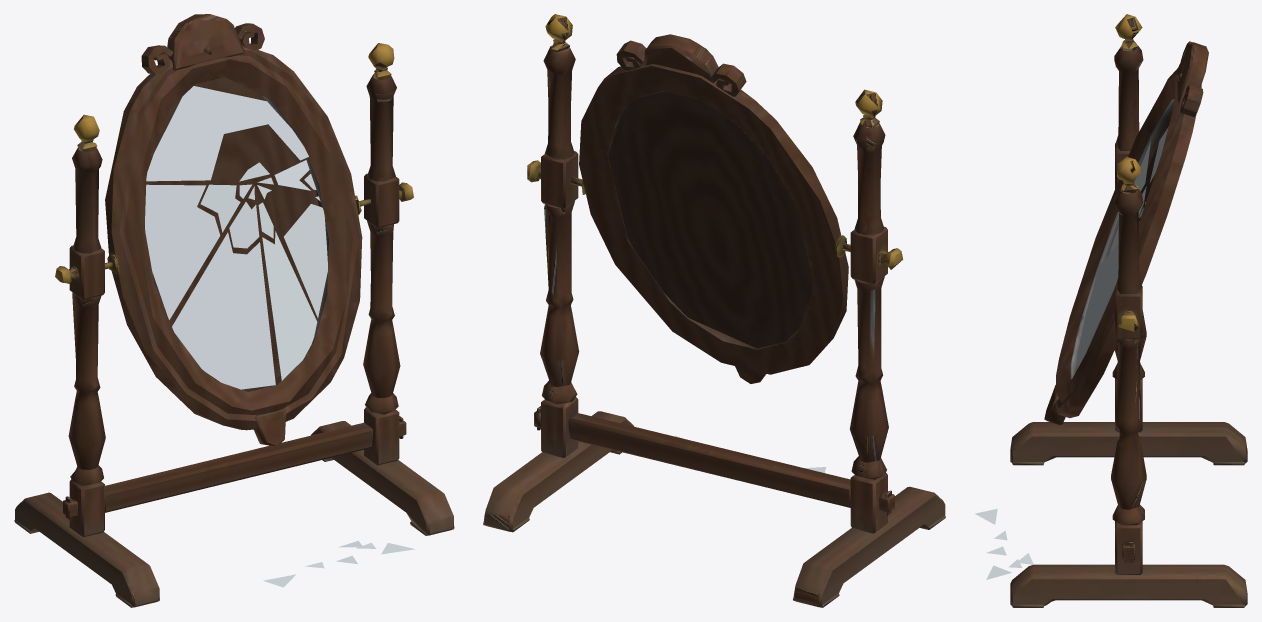
File: mirror-broken.low.glb
3 views of the same model, side by side, from view 1: azimuth 30°, elevation 25°; view 2: azimuth 150°, elevation 25°; view 3: azimuth 270°, elevation 25° (orthographic). The views are drawn at different scales.
Parts seen in each view (by area): view 1: mirror-broken; view 2: mirror-broken; view 3: mirror-broken.
Part boxes in pixels (x1,y1,x2,y2): mirror-broken: (14, 14, 454, 607); mirror-broken: (483, 14, 945, 607); mirror-broken: (975, 14, 1247, 607).
Size of the model in its own units: 0.8801 by 1.17 by 0.5983.
2 materials, 1 textured.
